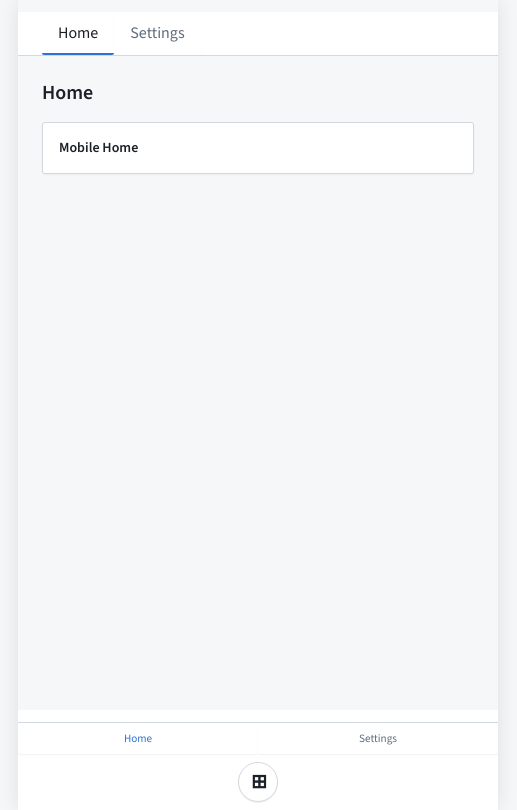
Test: MobileAppLauncher › opens QR overlay on button click
The width and height of the screenshot is (517, 810).
Step 1. Click the button named "QR code reader" → (258, 782), box [238,762,278,802]
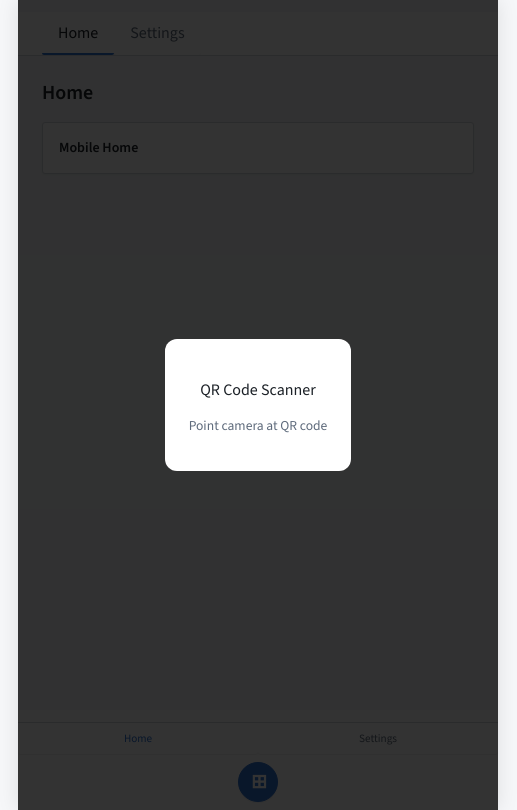
Expected: the text "QR Code Scanner" is shown, [200,379,316,400]
